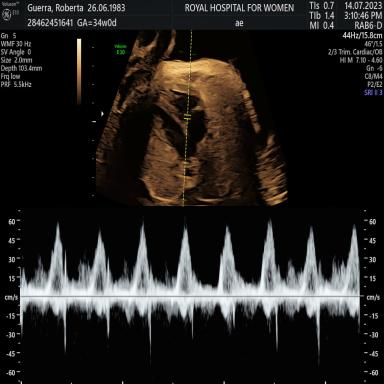Ultrasound-Waves: (27, 212, 359, 384)
